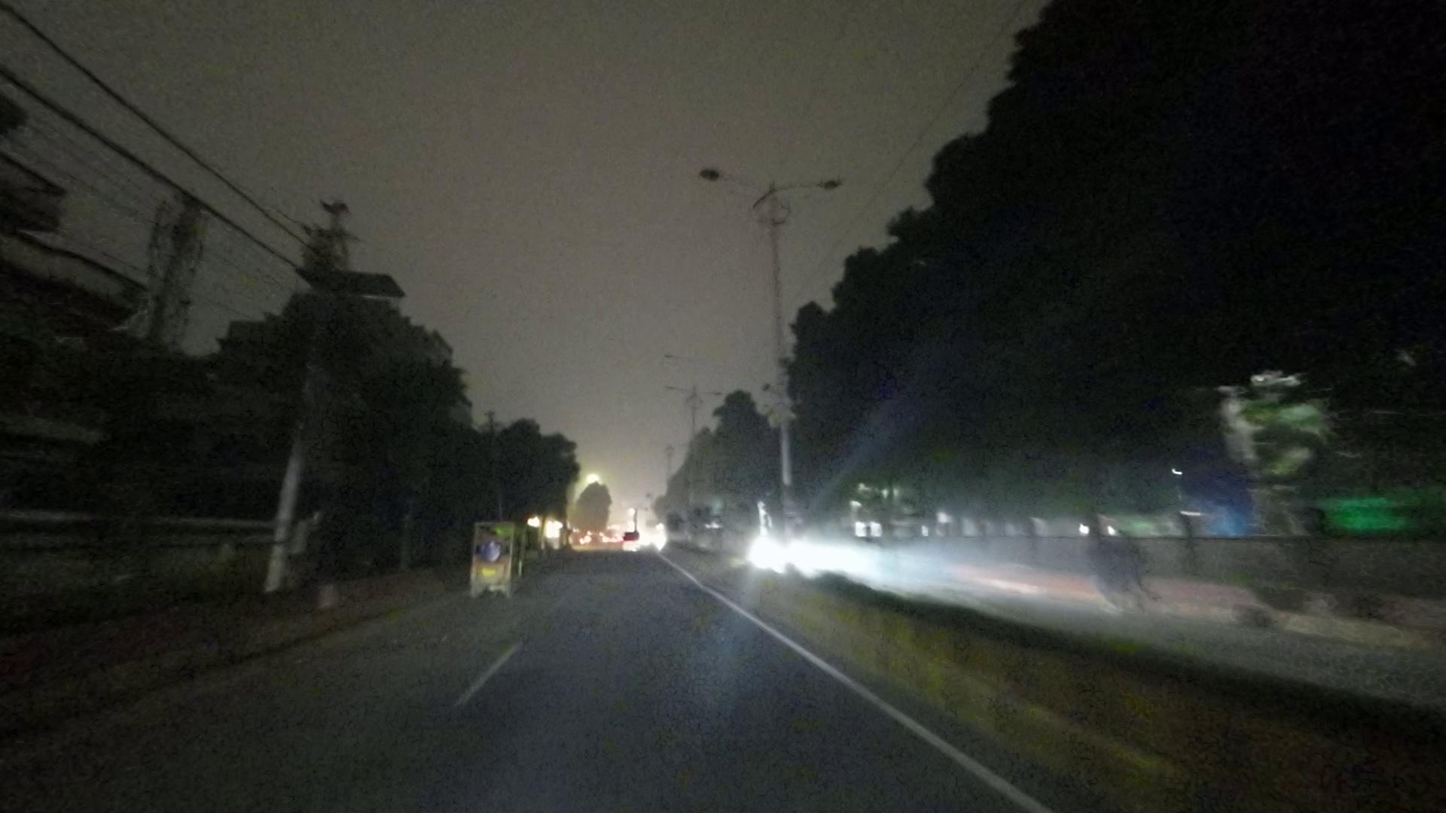streetlight: (696, 165, 761, 192), (779, 172, 846, 195)
